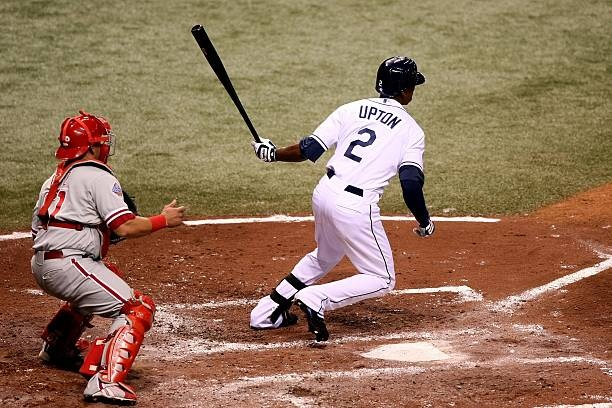bita: (192, 26, 264, 150)
